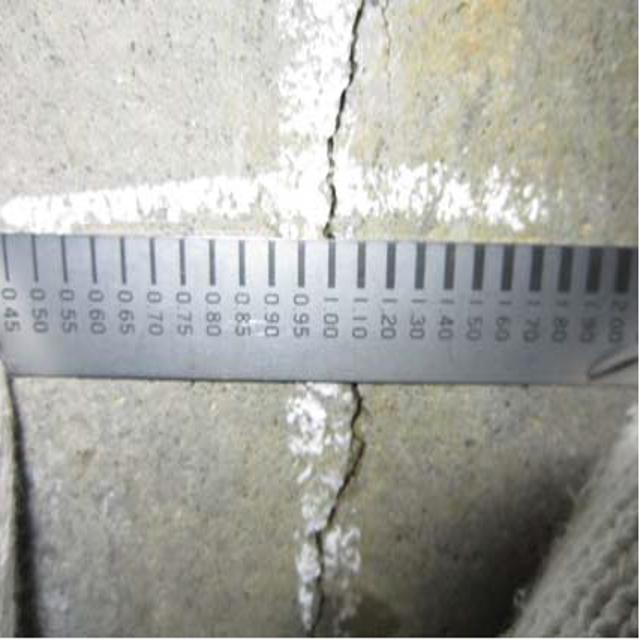crack: (291, 383, 386, 640), (311, 5, 376, 248)
